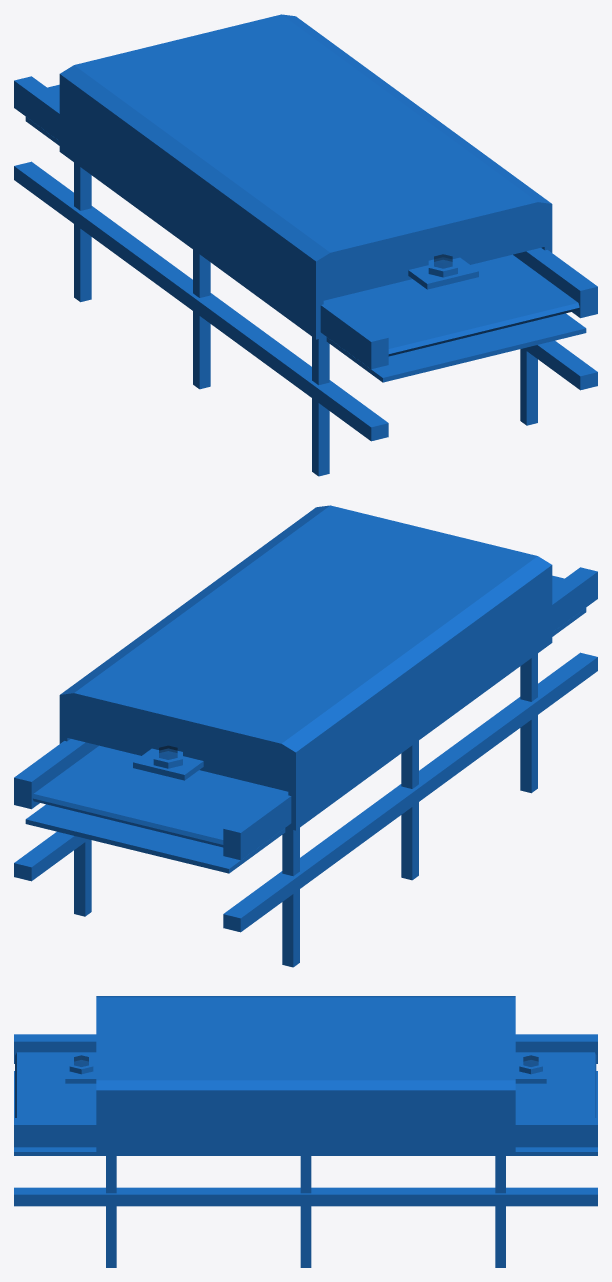
Rendered from SM_conveyor5.fbx.
3 renders of one model, top to bottom at view 1: azimuth 30°, elevation 25°; view 2: azimuth 150°, elevation 25°; view 3: azimuth 270°, elevation 25°, orthographic. The views are drawn at different scales.
Visible parts, largest first — view 1: conveyor5; view 2: conveyor5; view 3: conveyor5.
Part boxes in pixels (bbox=[...]): conveyor5: bbox=[14, 14, 597, 476]; conveyor5: bbox=[14, 505, 597, 967]; conveyor5: bbox=[14, 996, 597, 1267].
Size of the model in its own units: 114 by 105 by 300.
